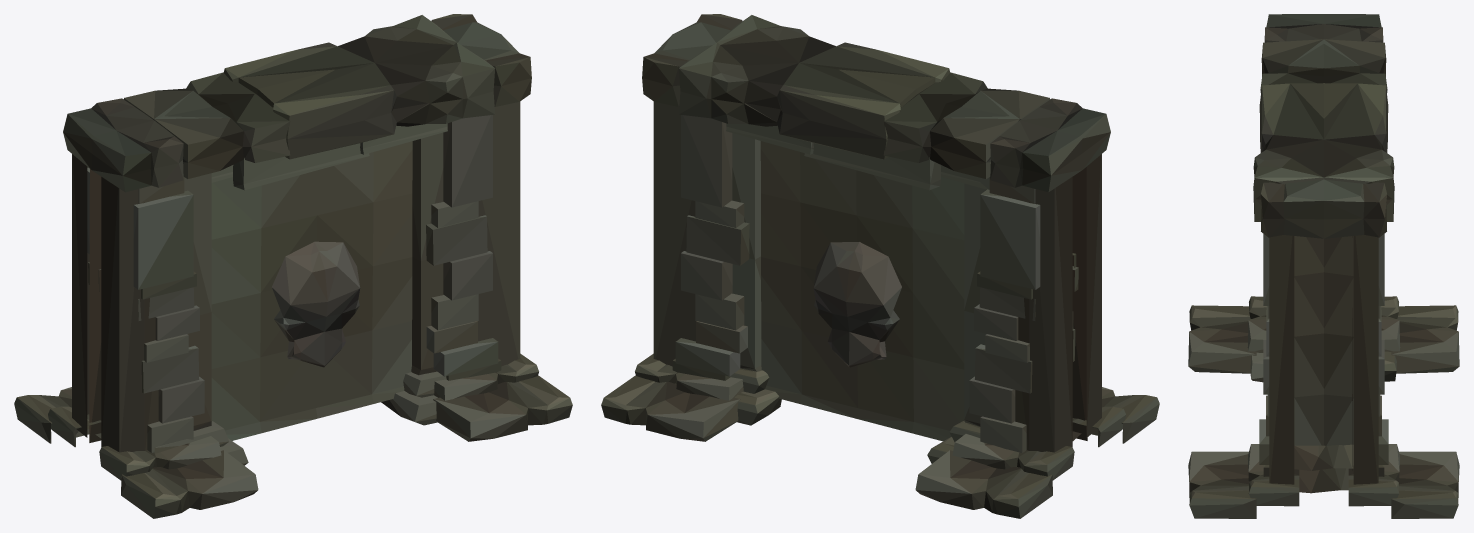
File: doorway_bossdoor.fbx
The picture shows the model from 3 angles, left to right: view 1: azimuth 30°, elevation 25°; view 2: azimuth 150°, elevation 25°; view 3: azimuth 270°, elevation 25°; orthographic projection. The views are drawn at different scales.
Parts seen in each view (by area): view 1: wall, door; view 2: wall, door; view 3: wall, door.
Boxes of the visible parts, left/top/right/bottom form: wall: left=14, top=14, right=572, bottom=518; door: left=211, top=141, right=412, bottom=440; wall: left=601, top=14, right=1159, bottom=518; door: left=760, top=141, right=964, bottom=441; wall: left=1188, top=14, right=1459, bottom=518; door: left=1294, top=236, right=1353, bottom=445.
Size of the model in its own units: 8.68 by 6.75 by 5.1.
